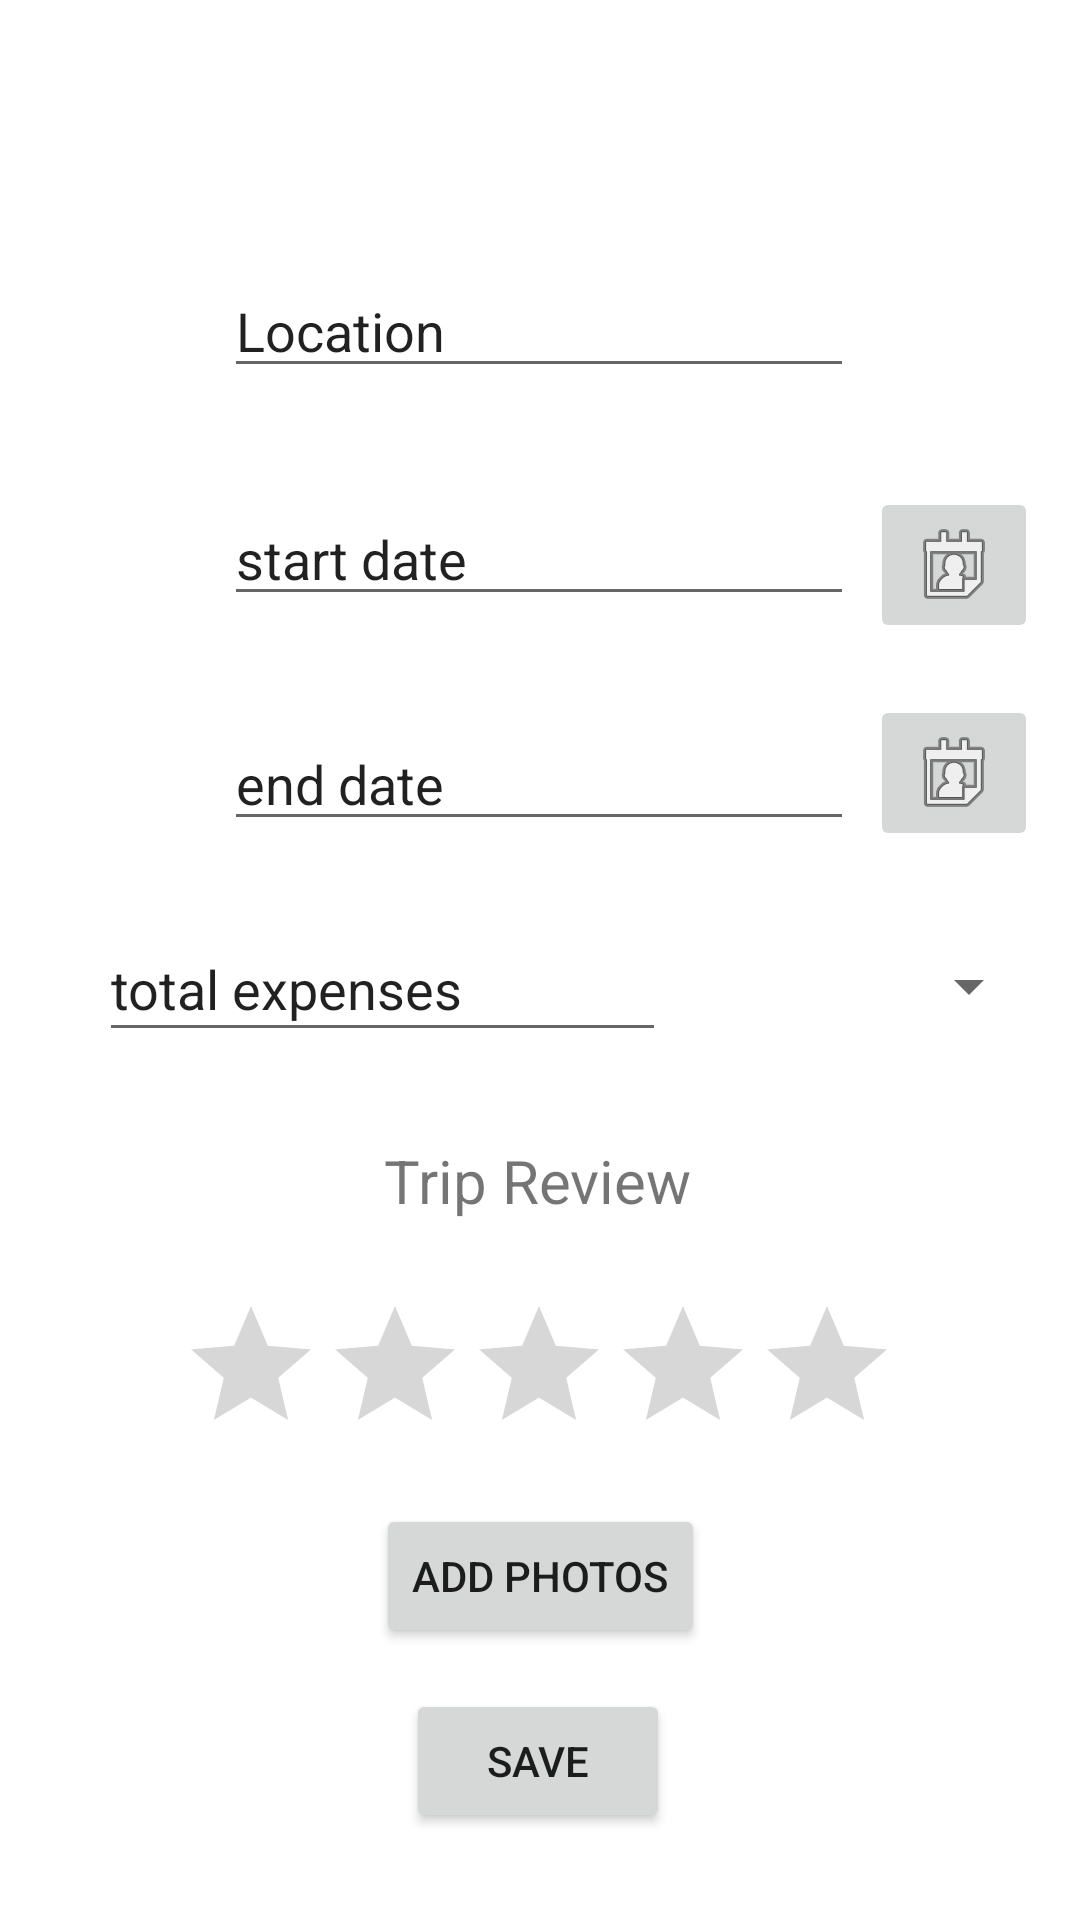

Named icons in this screenshot (1080×1920) and their bounding boxes, bbox(x1, y1, x2, y2):
calendar: bbox(882, 505, 1026, 625), bbox(882, 713, 1026, 833)
